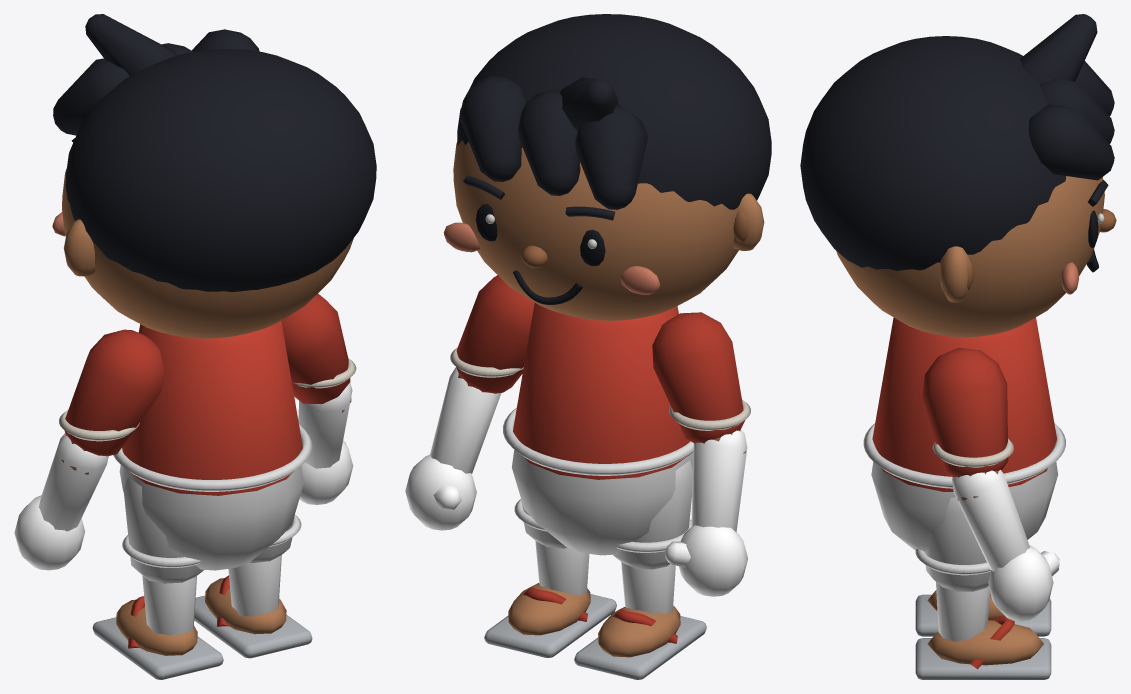
File: Warga_pemuda.fbx
The picture shows the model from 3 angles, left to right: view 1: azimuth 30°, elevation 25°; view 2: azimuth 150°, elevation 25°; view 3: azimuth 270°, elevation 25°; orthographic projection.
Parts seen in each view (by area): view 1: Bip01 Head, Bip01 Spine, Bip01, Bip01 L UpperArm, Bip01 R UpperArm, Bip01 L Foot, Bip01 R Foot, Bip01 L Forearm, Bip01 L Thigh, Bip01 L Hand, Bip01 R Forearm, Bip01 L Calf (+3 smaller); view 2: Bip01 Head, Bip01 Spine, Bip01, Bip01 L UpperArm, Bip01 R UpperArm, Bip01 L Foot, Bip01 R Foot, Bip01 L Forearm, Bip01 L Hand, Bip01 R Forearm, Bip01 R Hand, Bip01 L Thigh (+3 smaller); view 3: Bip01 Head, Bip01 Spine, Bip01 R UpperArm, Bip01, Bip01 R Foot, Bip01 R Forearm, Bip01 R Thigh, Bip01 R Hand, Bip01 R Calf, Bip01 L Foot.
Boxes of the visible parts, bbox=[...] form: Bip01 Head: bbox=[52, 14, 376, 338]; Bip01 Spine: bbox=[122, 321, 302, 495]; Bip01: bbox=[113, 424, 312, 570]; Bip01 L UpperArm: bbox=[59, 329, 165, 474]; Bip01 R UpperArm: bbox=[281, 293, 356, 412]; Bip01 L Foot: bbox=[92, 596, 223, 679]; Bip01 R Foot: bbox=[194, 575, 312, 658]; Bip01 L Forearm: bbox=[38, 433, 108, 531]; Bip01 L Thigh: bbox=[122, 477, 203, 583]; Bip01 L Hand: bbox=[14, 495, 85, 570]; Bip01 R Forearm: bbox=[298, 382, 352, 468]; Bip01 L Calf: bbox=[142, 575, 196, 635]; Bip01 Head: bbox=[443, 14, 771, 320]; Bip01 Spine: bbox=[513, 302, 692, 479]; Bip01: bbox=[503, 407, 693, 555]; Bip01 L UpperArm: bbox=[652, 312, 750, 453]; Bip01 R UpperArm: bbox=[450, 275, 534, 393]; Bip01 L Foot: bbox=[574, 606, 706, 679]; Bip01 R Foot: bbox=[484, 583, 616, 657]; Bip01 L Forearm: bbox=[691, 429, 747, 532]; Bip01 L Hand: bbox=[665, 525, 747, 596]; Bip01 R Forearm: bbox=[430, 367, 501, 473]; Bip01 R Hand: bbox=[405, 454, 476, 530]; Bip01 L Thigh: bbox=[613, 460, 692, 569]; Bip01 Head: bbox=[800, 14, 1116, 337]; Bip01 Spine: bbox=[872, 317, 1056, 491]; Bip01 R UpperArm: bbox=[922, 347, 1013, 500]; Bip01: bbox=[863, 423, 1065, 551]; Bip01 R Foot: bbox=[915, 616, 1051, 679]; Bip01 R Forearm: bbox=[952, 470, 1029, 571]; Bip01 R Thigh: bbox=[915, 497, 990, 591]; Bip01 R Hand: bbox=[988, 545, 1059, 621]; Bip01 R Calf: bbox=[936, 582, 990, 641]; Bip01 L Foot: bbox=[915, 590, 1051, 636].
Bounding box in the file's own units: 0.82 × 1.42 × 0.677.
